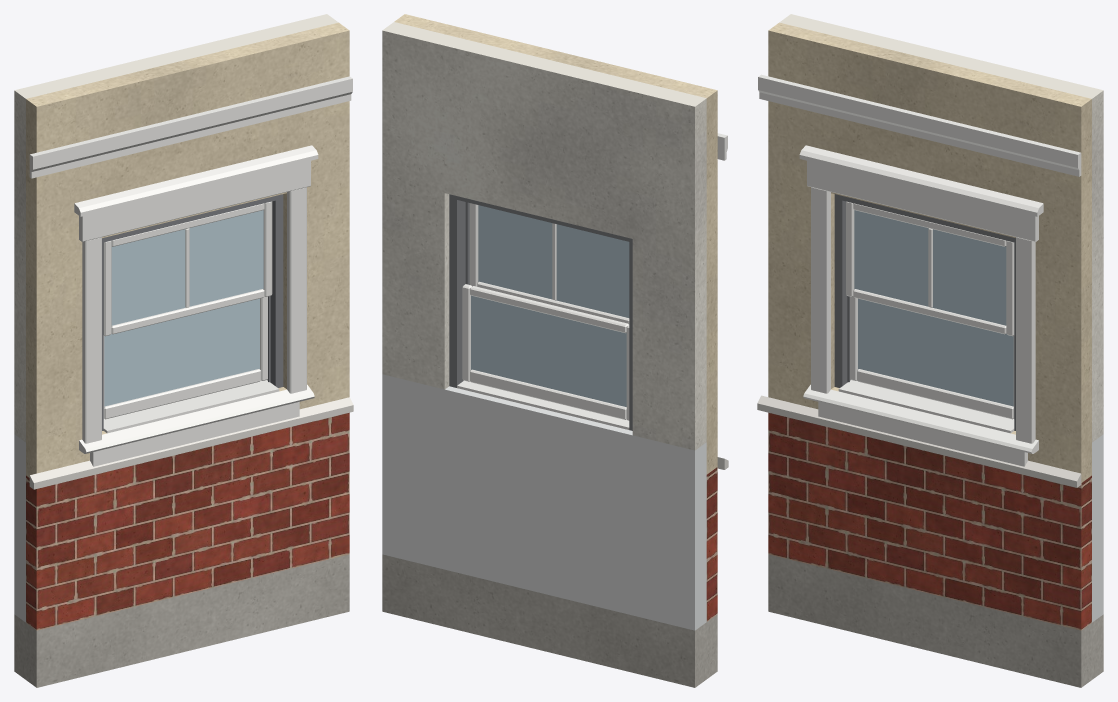
The model's file is c_win_ea.glb.
The picture shows the model from 3 angles, left to right: view 1: azimuth 30°, elevation 25°; view 2: azimuth 150°, elevation 25°; view 3: azimuth 330°, elevation 25°; orthographic projection.
Parts seen in each view (by area): view 1: c_win_ea_render, c_win_ea_brick, c_win_ea_trim, c_win_ea_glass, c_win_ea_concrete, c_win_ea_plaster, c_win_ea_sash, c_win_ea_frame, c_win_ea_coping, c_win_ea_tile; view 2: c_win_ea_plaster, c_win_ea_tile, c_win_ea_glass, c_win_ea_concrete, c_win_ea_render, c_win_ea_sash, c_win_ea_frame, c_win_ea_trim, c_win_ea_brick; view 3: c_win_ea_render, c_win_ea_brick, c_win_ea_trim, c_win_ea_glass, c_win_ea_concrete, c_win_ea_plaster, c_win_ea_sash, c_win_ea_frame, c_win_ea_coping, c_win_ea_tile.
Part boxes in pixels (<box>): c_win_ea_render: <box>26,22,349,477</box>; c_win_ea_brick: <box>26,412,349,630</box>; c_win_ea_trim: <box>29,76,352,466</box>; c_win_ea_glass: <box>104,210,263,406</box>; c_win_ea_concrete: <box>14,554,349,687</box>; c_win_ea_plaster: <box>14,14,338,442</box>; c_win_ea_sash: <box>103,201,272,419</box>; c_win_ea_frame: <box>102,194,283,430</box>; c_win_ea_coping: <box>29,397,353,489</box>; c_win_ea_tile: <box>14,434,25,622</box>; c_win_ea_plaster: <box>382,22,706,450</box>; c_win_ea_tile: <box>382,374,706,630</box>; c_win_ea_glass: <box>471,205,629,406</box>; c_win_ea_concrete: <box>382,554,717,687</box>; c_win_ea_render: <box>394,14,717,474</box>; c_win_ea_sash: <box>462,203,629,420</box>; c_win_ea_frame: <box>449,194,632,430</box>; c_win_ea_trim: <box>457,133,727,429</box>; c_win_ea_brick: <box>706,467,717,621</box>; c_win_ea_render: <box>768,22,1091,482</box>; c_win_ea_brick: <box>768,412,1091,630</box>; c_win_ea_trim: <box>758,74,1081,466</box>; c_win_ea_glass: <box>854,210,1013,406</box>; c_win_ea_concrete: <box>768,554,1103,687</box>; c_win_ea_plaster: <box>779,14,1103,442</box>; c_win_ea_sash: <box>846,201,1014,419</box>; c_win_ea_frame: <box>834,194,1015,430</box>; c_win_ea_coping: <box>757,395,1081,487</box>; c_win_ea_tile: <box>1092,434,1103,622</box>.
Size of the model in its own units: 2.04 by 3.55 by 0.332.
10 materials, 4 textured.
